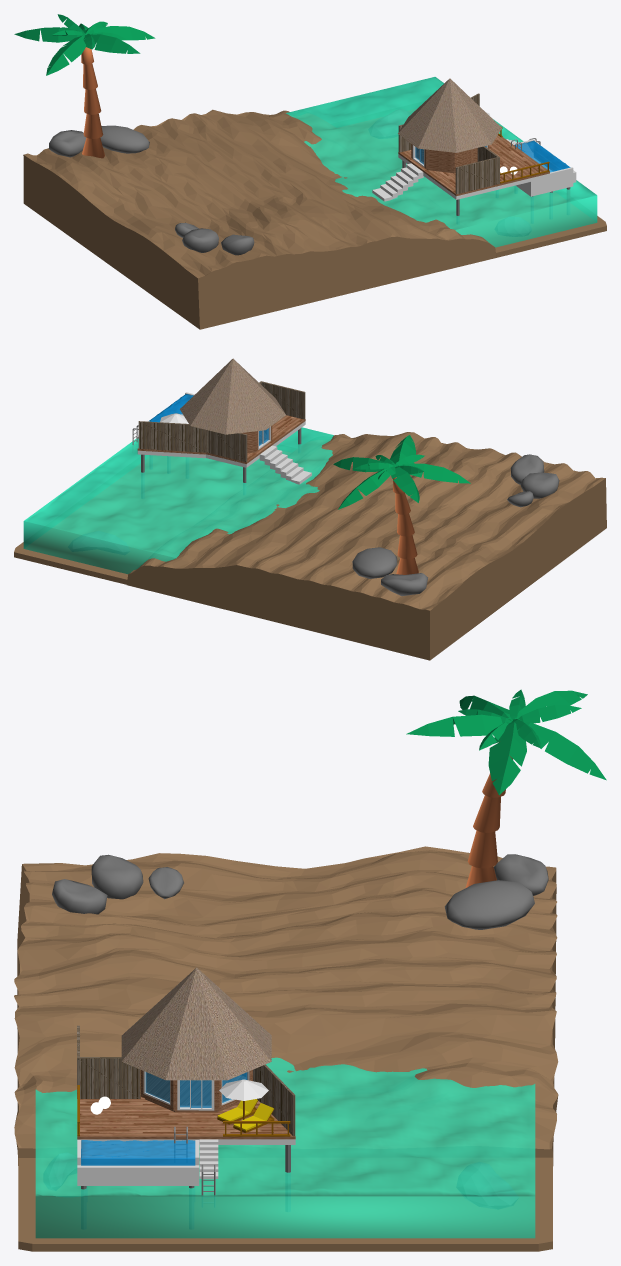
Rendered from maldive-mini.gltf.
3 views of the same model, one above another, from view 1: azimuth 30°, elevation 25°; view 2: azimuth 150°, elevation 25°; view 3: azimuth 270°, elevation 25° (orthographic). The views are drawn at different scales.
Visible parts, largest first — view 1: BeachBase, SeaWater, UnderwaterBase, Cone, HutMainFloor, CoconutTree, Cube.003, Cube.025, Stone4, HutBodyCylinder, Stairs.001, Stone1.001 (+10 smaller); view 2: BeachBase, SeaWater, UnderwaterBase, Cone, Cube, CoconutTree, Stone4, Cube.001, Stairs.001, HutMainFloor, Stone7, Cube.003 (+9 smaller); view 3: BeachBase, SeaWater, UnderwaterBase, Cone, HutMainFloor, Cube.025, Stone4, PoolWater, Cube.005, CoconutTree, Stone7, Stone1 (+15 smaller).
Boxes of the visible parts, left/top/right/bottom form: BeachBase: left=23, top=109, right=496, bottom=329; SeaWater: left=286, top=77, right=597, bottom=247; UnderwaterBase: left=338, top=109, right=606, bottom=257; Cone: left=398, top=78, right=501, bottom=152; HutMainFloor: left=398, top=135, right=549, bottom=196; CoconutTree: left=81, top=47, right=104, bottom=158; Cube.003: left=455, top=157, right=498, bottom=194; Cube.025: left=513, top=139, right=576, bottom=196; Stone4: left=100, top=125, right=149, bottom=153; HutBodyCylinder: left=411, top=144, right=488, bottom=172; Stairs.001: left=372, top=163, right=423, bottom=201; Stone1.001: left=48, top=130, right=86, bottom=157; BeachBase: left=126, top=432, right=606, bottom=660; SeaWater: left=23, top=427, right=333, bottom=574; UnderwaterBase: left=14, top=451, right=290, bottom=584; Cone: left=180, top=358, right=285, bottom=434; Cube: left=138, top=421, right=208, bottom=452; CoconutTree: left=393, top=477, right=418, bottom=574; Stone4: left=352, top=547, right=397, bottom=578; Cube.001: left=208, top=430, right=247, bottom=461; Stairs.001: left=259, top=445, right=311, bottom=484; HutMainFloor: left=137, top=415, right=305, bottom=463; Stone7: left=68, top=531, right=129, bottom=554; Cube.003: left=262, top=381, right=305, bottom=419; BeachBase: left=14, top=846, right=558, bottom=1165; SeaWater: left=35, top=1057, right=535, bottom=1238; UnderwaterBase: left=18, top=1157, right=552, bottom=1251; Cone: left=121, top=967, right=271, bottom=1080; HutMainFloor: left=77, top=1070, right=295, bottom=1139; Cube.025: left=77, top=1140, right=199, bottom=1185; Stone4: left=444, top=880, right=534, bottom=929; PoolWater: left=81, top=1140, right=195, bottom=1165; Cube.005: left=77, top=1057, right=140, bottom=1098; CoconutTree: left=465, top=742, right=512, bottom=888; Stone7: left=456, top=1162, right=518, bottom=1208; Stone1: left=91, top=854, right=143, bottom=899.
Size of the model in its own units: 11.99 by 4.79 by 9.49.
16 materials, 3 textured.
